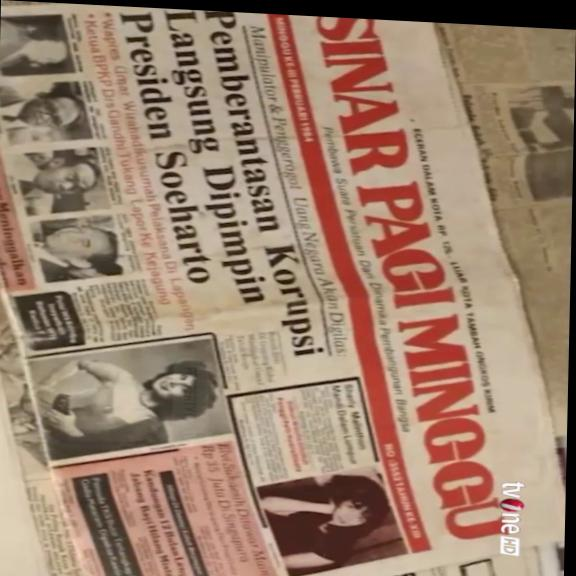Kertas: (249, 14, 570, 576), (7, 6, 327, 353)
